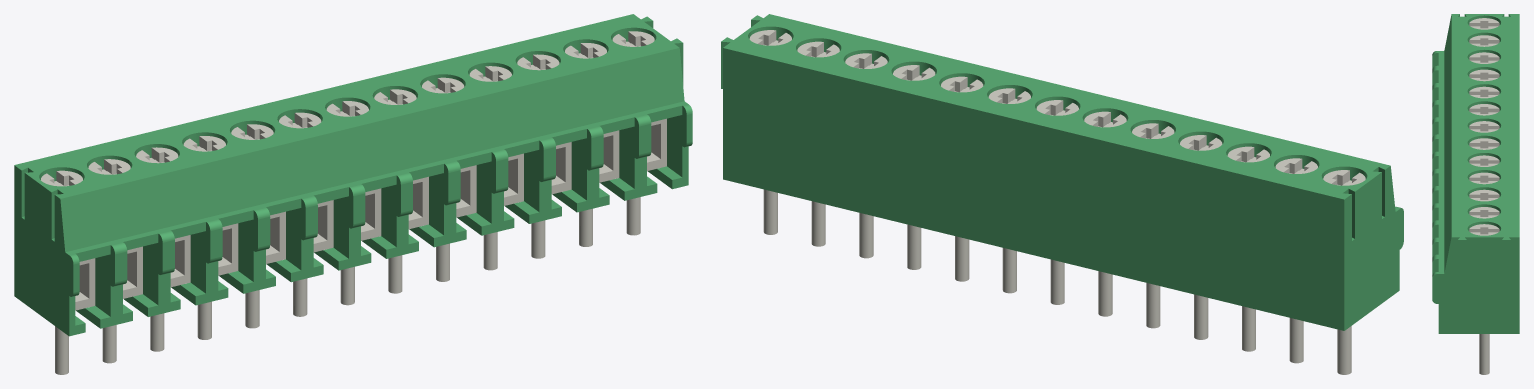
The model's file is kc-terminalblock_phoenix_pt-1_5-13-3.5-h_1x13_p3.50mm_horizontal.glb.
3 renders of one model, left to right at view 1: azimuth 30°, elevation 25°; view 2: azimuth 150°, elevation 25°; view 3: azimuth 270°, elevation 25°, orthographic. The views are drawn at different scales.
Visible parts, largest first — view 1: 0.08333333333333333_0.4166666666666667_0.16666666666666666_0, 0.6666666666666666_0.6666666666666666_0.5833333333333334_0.8; view 2: 0.08333333333333333_0.4166666666666667_0.16666666666666666_0, 0.6666666666666666_0.6666666666666666_0.5833333333333334_0.8; view 3: 0.08333333333333333_0.4166666666666667_0.16666666666666666_0, 0.6666666666666666_0.6666666666666666_0.5833333333333334_0.8.
Part boxes in pixels (box(x1,y1,x2,y2)): 0.08333333333333333_0.4166666666666667_0.16666666666666666_0: box(14, 14, 692, 336); 0.6666666666666666_0.6666666666666666_0.5833333333333334_0.8: box(41, 31, 666, 374); 0.08333333333333333_0.4166666666666667_0.16666666666666666_0: box(721, 14, 1403, 330); 0.6666666666666666_0.6666666666666666_0.5833333333333334_0.8: box(749, 30, 1365, 374); 0.08333333333333333_0.4166666666666667_0.16666666666666666_0: box(1432, 14, 1519, 333); 0.6666666666666666_0.6666666666666666_0.5833333333333334_0.8: box(1469, 18, 1499, 374).
Size of the model in its own units: 4.61 by 1.37 by 0.7547.
